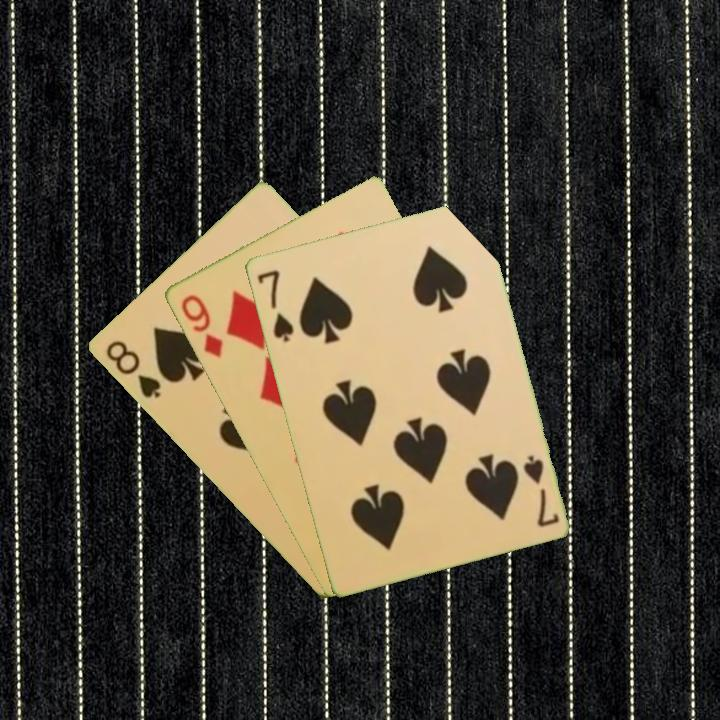7s: (253, 266, 296, 345), (519, 451, 562, 530)
8s: (101, 336, 164, 402)
9d: (177, 291, 225, 361)
